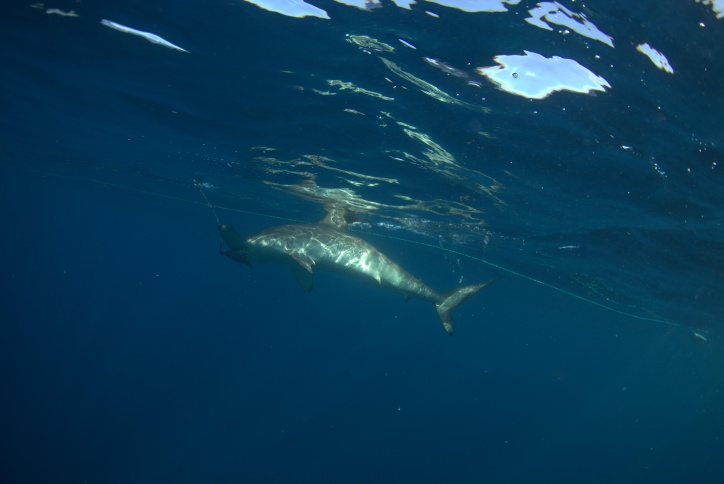Hammer: (198, 176, 489, 346)
